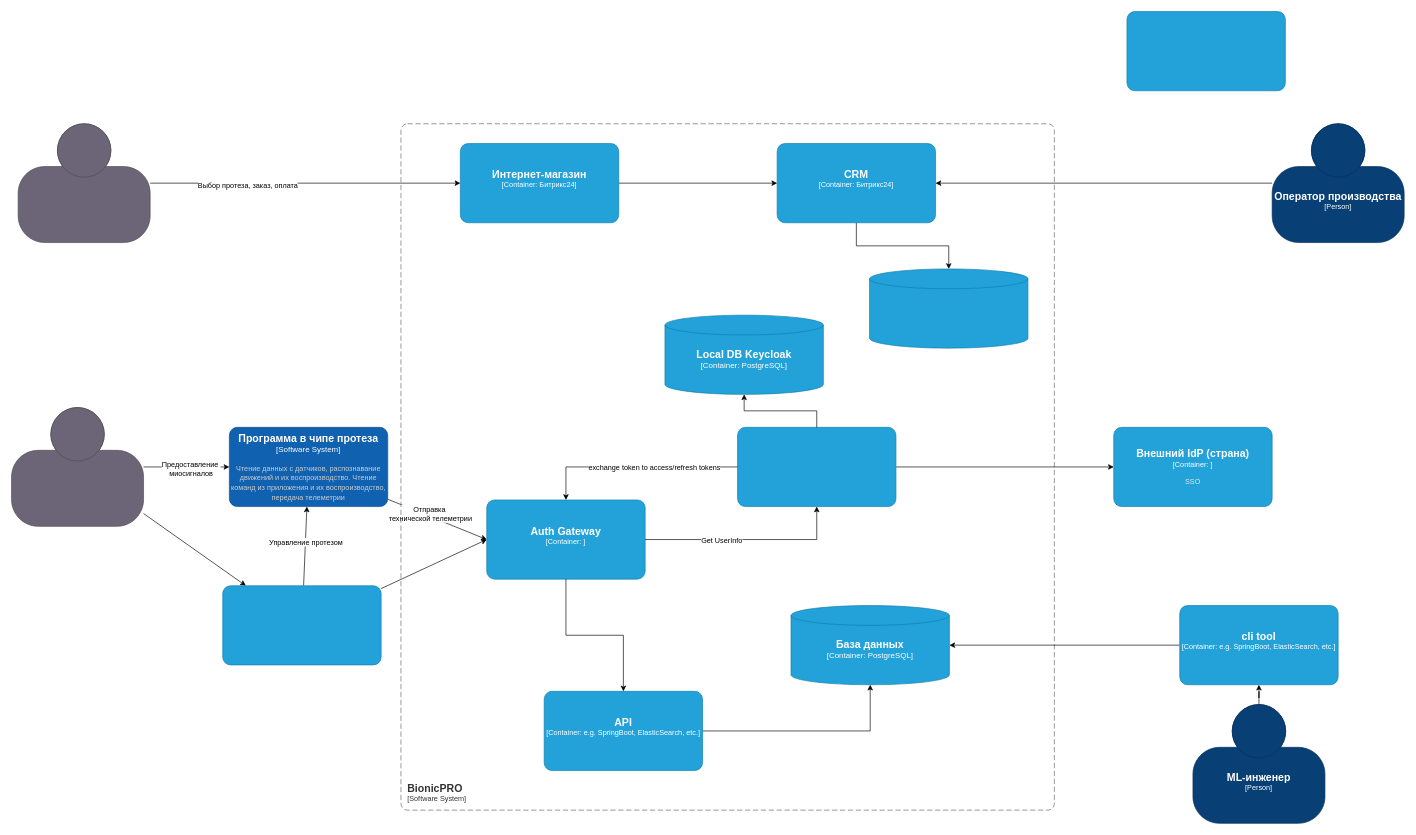
Some shapes in this 1416 by 835 pixel diagram are drawn without their labels. Each missing label, with the centre of its shape:
"CRM DB [Container: e.g. Oracle Database 12]" goes at (948,308).
"Внешний источник [Container: ]" goes at (1205,51).
"Пилот протеза [Person] С этого человека считываются данные" goes at (77,466).
"Покупатель протеза [Person]" goes at (83,183).
"Приложение для донастройки протеза [Container: iOD, Android]" goes at (301,625).
"Сервис учётных данных [Container: Keycloak]" goes at (816,467).
